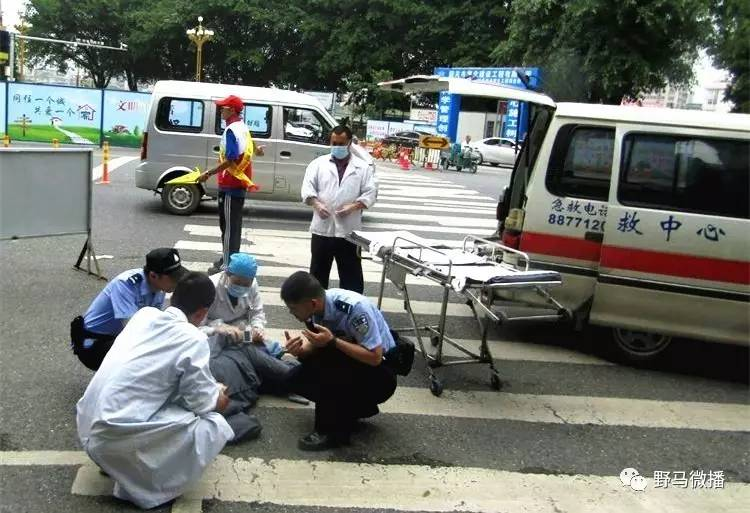fall: (178, 319, 321, 422)
